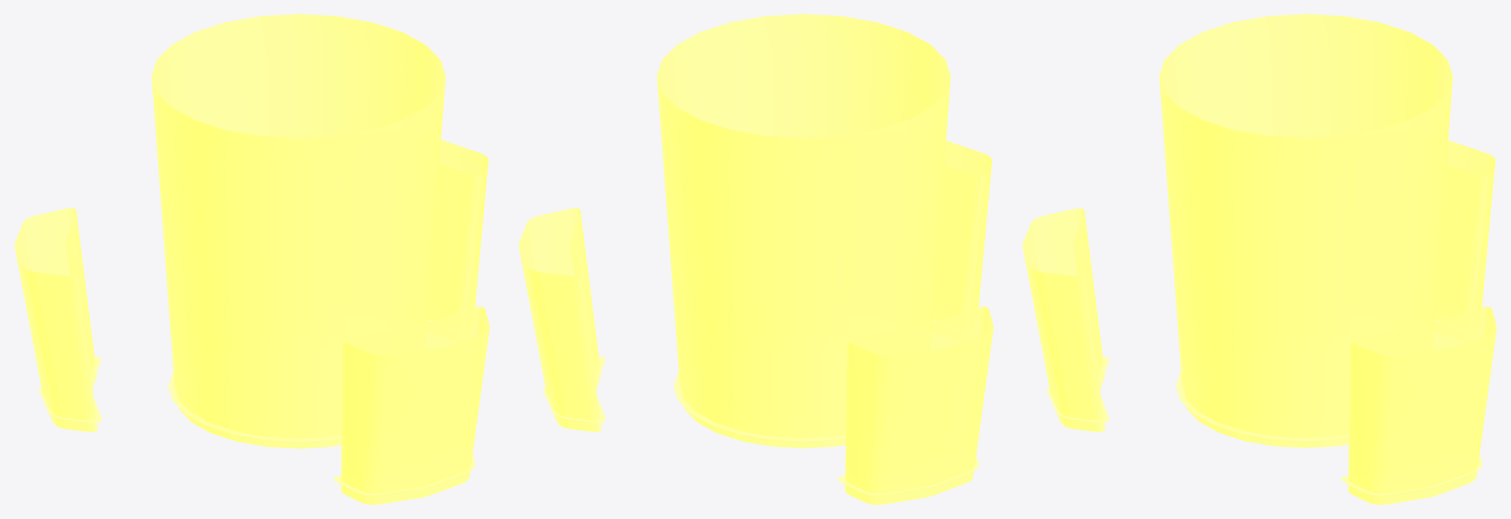
The model's file is BoostPad_Small_Glow.glb.
The picture shows the model from 3 angles, left to right: view 1: azimuth 30°, elevation 25°; view 2: azimuth 150°, elevation 25°; view 3: azimuth 270°, elevation 25°; orthographic projection.
Parts seen in each view (by area): view 1: Active_Glow_Overlay; view 2: Active_Glow_Overlay; view 3: Active_Glow_Overlay.
Part boxes in pixels (x1,y1,x2,y2): Active_Glow_Overlay: (14,14,489,504); Active_Glow_Overlay: (518,14,993,504); Active_Glow_Overlay: (1022,14,1496,504).
Bounding box in the file's own units: 0.9185 × 0.6241 × 0.82.
